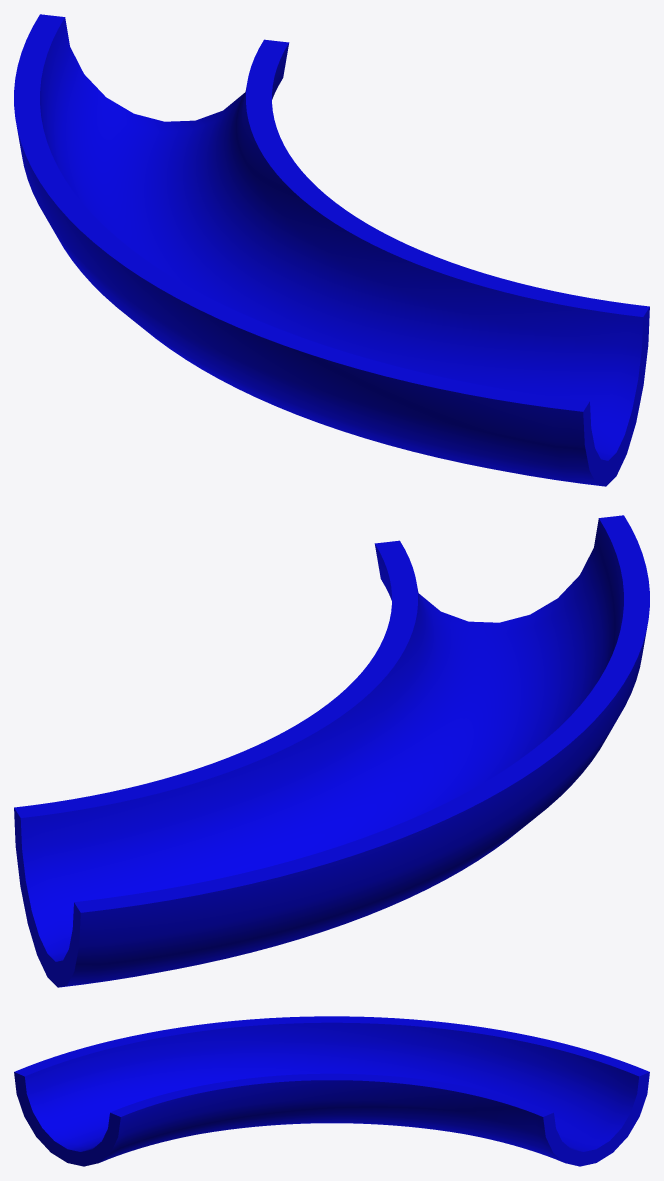
The model's file is Vessel_Vein_Elbow.fbx.
3 views of the same model, one above another, from view 1: azimuth 30°, elevation 25°; view 2: azimuth 150°, elevation 25°; view 3: azimuth 270°, elevation 25° (orthographic). The views are drawn at different scales.
Visible parts, largest first — view 1: Maya_Organ_Map_Vessels:pPipe6; view 2: Maya_Organ_Map_Vessels:pPipe6; view 3: Maya_Organ_Map_Vessels:pPipe6.
Boxes of the visible parts, bbox=[...] form: Maya_Organ_Map_Vessels:pPipe6: bbox=[14, 14, 649, 486]; Maya_Organ_Map_Vessels:pPipe6: bbox=[14, 515, 649, 987]; Maya_Organ_Map_Vessels:pPipe6: bbox=[14, 1016, 649, 1166].
Size of the model in its own units: 3.96 by 1.25 by 10.55.
